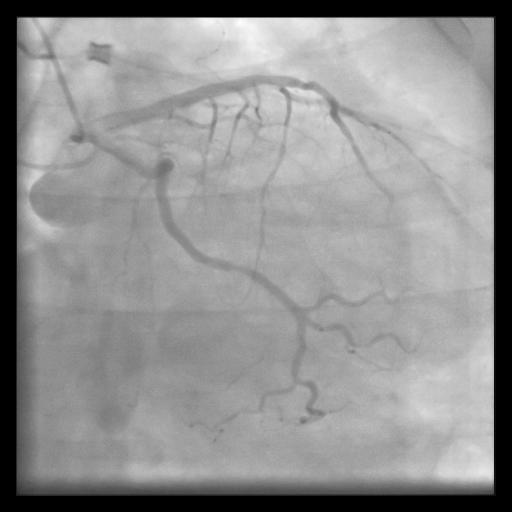Stenosis: (229, 259, 252, 276)
